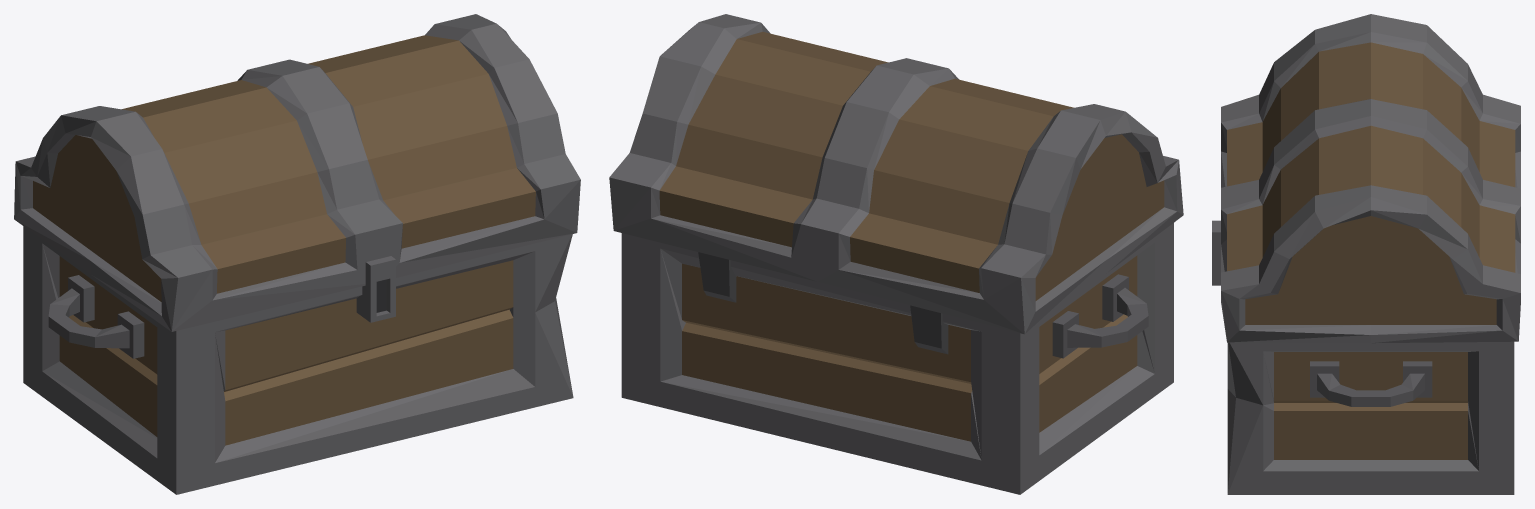
File: SM_Prop_Chest_02.glb
The picture shows the model from 3 angles, left to right: view 1: azimuth 30°, elevation 25°; view 2: azimuth 150°, elevation 25°; view 3: azimuth 270°, elevation 25°; orthographic projection. The views are drawn at different scales.
Parts seen in each view (by area): view 1: SM_Prop_Chest_02_part02, SM_Prop_Chest_02_part00; view 2: SM_Prop_Chest_02_part02, SM_Prop_Chest_02_part00; view 3: SM_Prop_Chest_02_part02, SM_Prop_Chest_02_part00.
Part boxes in pixels (x1,y1,x2,y2): SM_Prop_Chest_02_part02: [14, 14, 580, 331]; SM_Prop_Chest_02_part00: [23, 226, 573, 494]; SM_Prop_Chest_02_part02: [609, 14, 1183, 334]; SM_Prop_Chest_02_part00: [621, 223, 1173, 494]; SM_Prop_Chest_02_part02: [1212, 14, 1520, 343]; SM_Prop_Chest_02_part00: [1227, 341, 1514, 494].
Bounding box in the file's own units: 1.06 × 0.6712 × 0.6304.
1 material, 1 textured.
